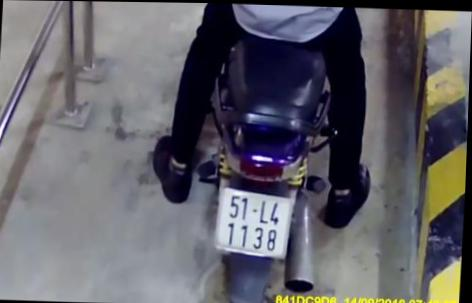LP: (215, 185, 297, 260)
